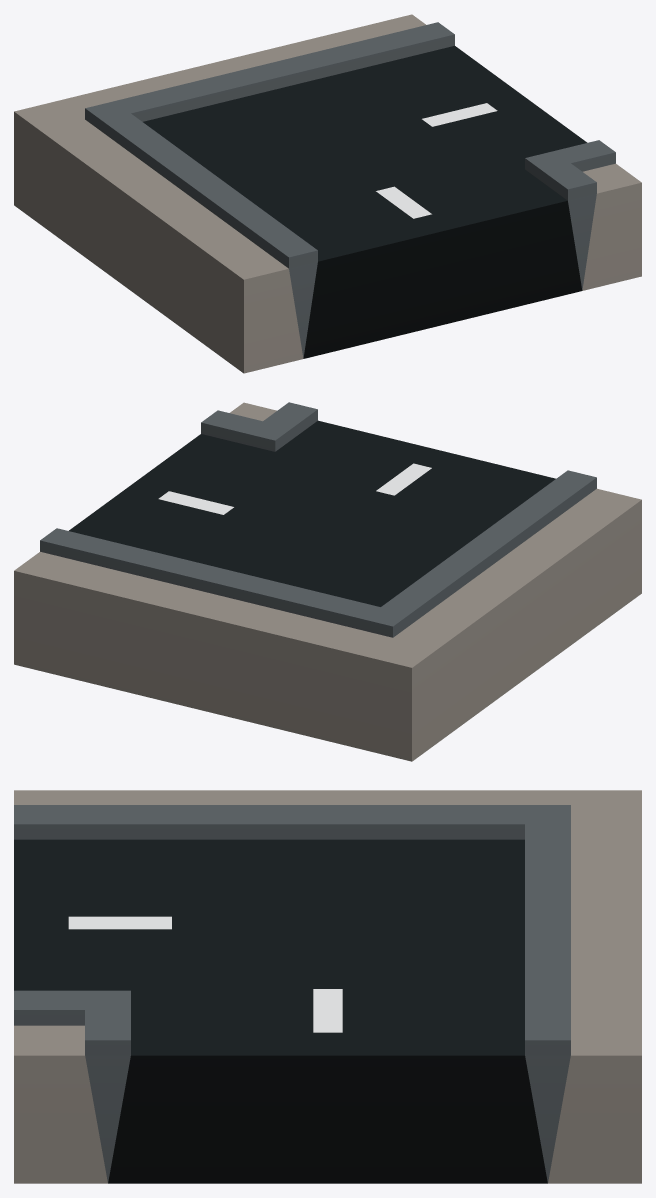
Rendered from CARRETERA ESQUINA.fbx.
3 renders of one model, top to bottom at view 1: azimuth 30°, elevation 25°; view 2: azimuth 150°, elevation 25°; view 3: azimuth 270°, elevation 25°, orthographic. The views are drawn at different scales.
Visible parts, largest first — view 1: esquina.005; view 2: esquina.005; view 3: esquina.005.
Part boxes in pixels (x1,y1,x2,y2): esquina.005: (14,14,641,373); esquina.005: (14,402,641,761); esquina.005: (14,790,641,1183).
Size of the model in its own units: 900 by 227 by 900.
Materials: 1 (1 with a texture image).
